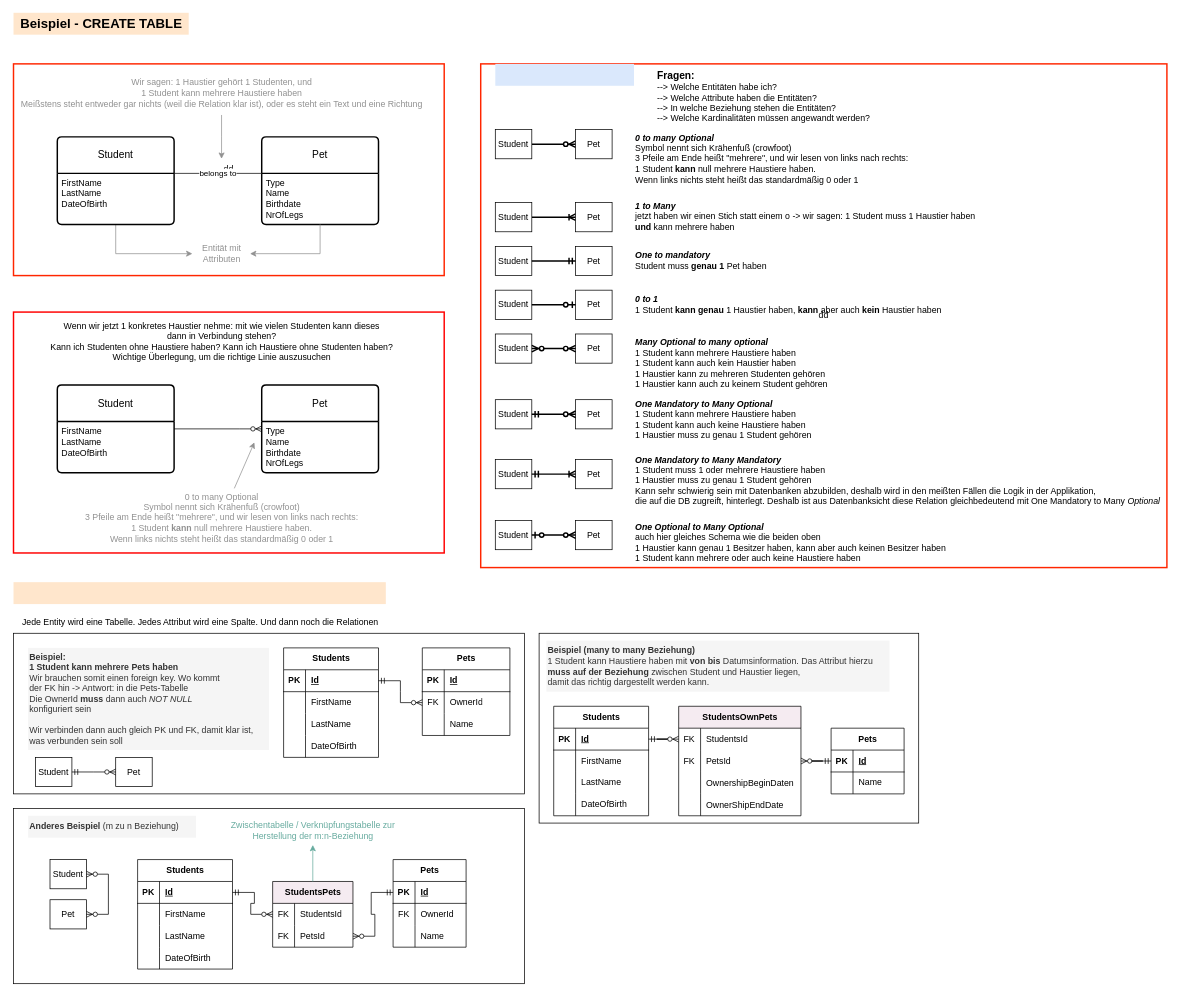
Some shapes in this 1186 by 996 pixel diagram are drawn without their labels. Here are the shapes that lost their labels. From the top down, the centre of each, then its label:
[564,74]: Relationen (Stricherl)
[199,593]: Wie übersetzt man ein ER-Diagramm in eine Datenbank?
